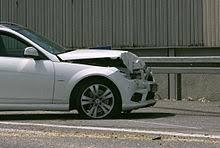bonnet-dent: (56, 43, 144, 69)
front-bumper-dent: (110, 74, 167, 110)
